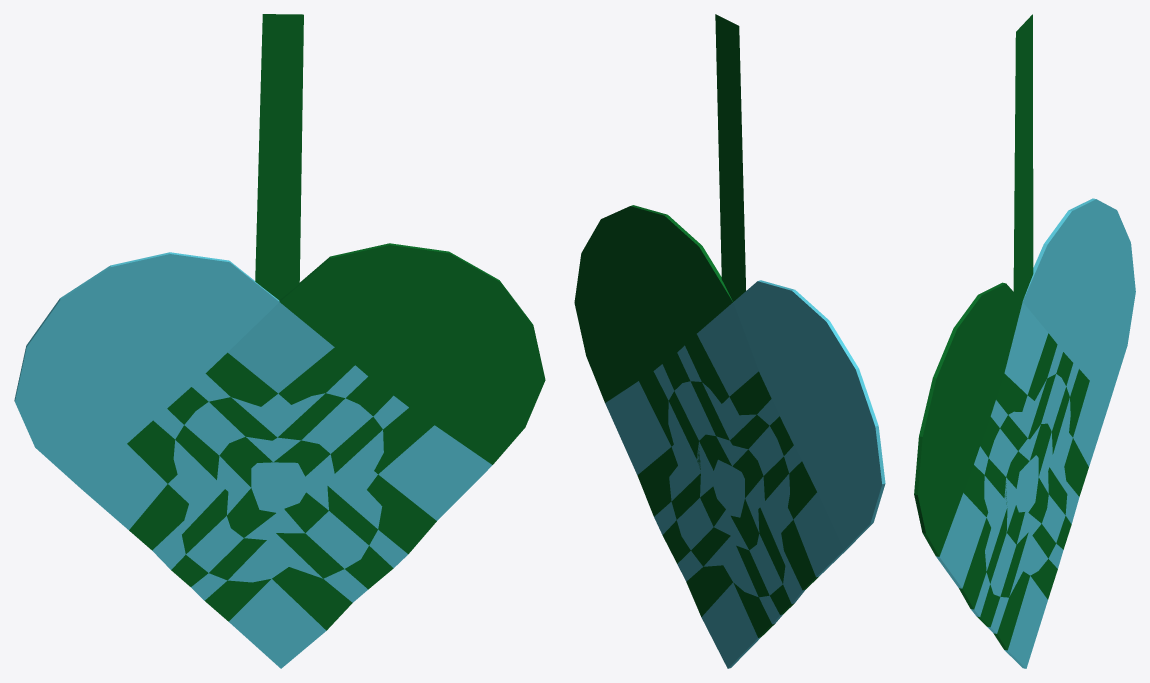
Rendered from heart21.glb.
The picture shows the model from 3 angles, left to right: view 1: azimuth 30°, elevation 25°; view 2: azimuth 150°, elevation 25°; view 3: azimuth 270°, elevation 25°; orthographic projection.
Visible parts, largest first — view 1: heart21; view 2: heart21; view 3: heart21.
Boxes of the visible parts, x1,y1,x2,y2 form: heart21: (14, 14, 545, 668); heart21: (574, 14, 885, 668); heart21: (914, 14, 1135, 668).
Size of the model in its own units: 0.1248 by 0.1849 by 0.0574.
